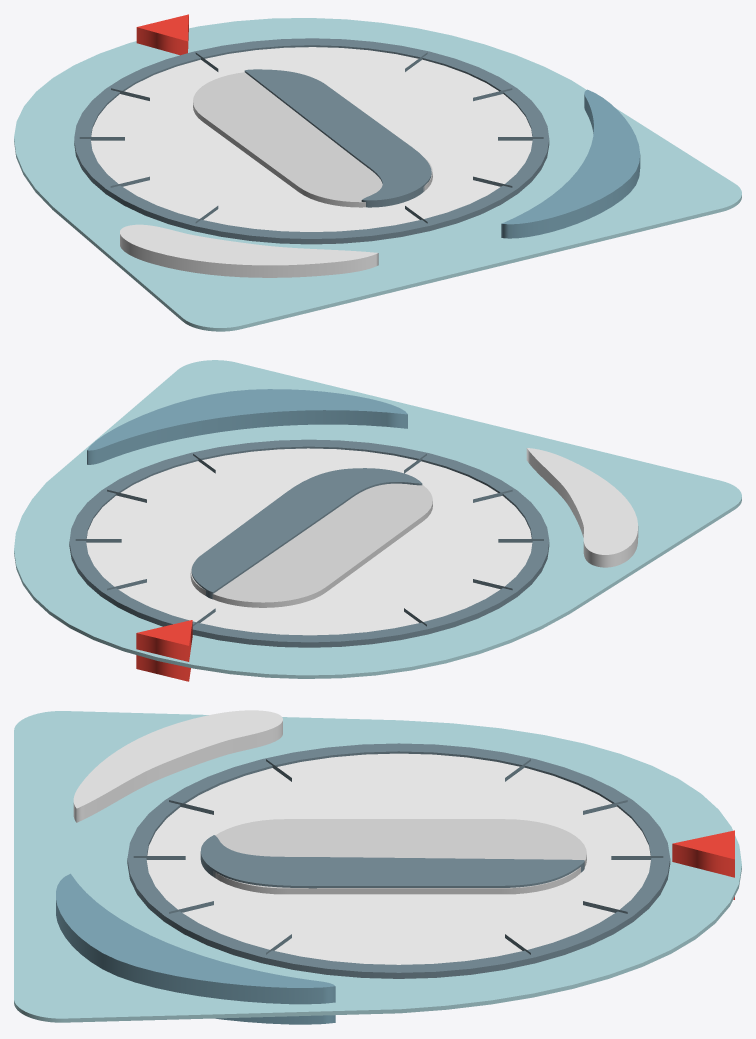
The model's file is emoji_u23f2.glb.
The picture shows the model from 3 angles, top to bottom: view 1: azimuth 30°, elevation 25°; view 2: azimuth 150°, elevation 25°; view 3: azimuth 270°, elevation 25°; orthographic projection. The views are drawn at different scales.
Visible parts, largest first — view 1: emoji_u23f2; view 2: emoji_u23f2; view 3: emoji_u23f2.
Part boxes in pixels (x1,y1,x2,y2): emoji_u23f2: (14,14,741,331); emoji_u23f2: (14,360,741,681); emoji_u23f2: (14,710,741,1024).
Bounding box in the file's own units: 0.0324 × 0.002 × 0.0324.
